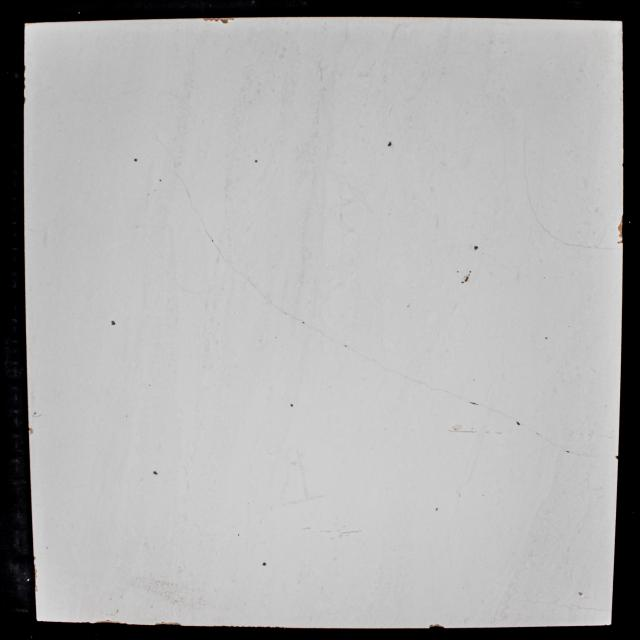edge-chipping: (202, 17, 235, 24), (155, 621, 182, 626), (96, 620, 122, 624), (618, 223, 623, 238), (429, 624, 445, 628), (28, 427, 34, 435), (213, 625, 235, 627), (34, 568, 38, 579), (617, 240, 624, 244), (34, 585, 38, 592), (620, 214, 623, 223), (578, 592, 583, 596), (33, 556, 36, 561), (616, 456, 618, 460)
hole: (261, 560, 268, 566), (110, 320, 116, 326), (387, 141, 392, 147), (474, 246, 479, 250), (153, 471, 158, 475), (134, 158, 138, 162), (544, 336, 548, 340), (435, 507, 439, 511), (255, 159, 258, 163), (290, 404, 294, 407), (516, 422, 520, 425)
line: (239, 272, 300, 321), (365, 357, 439, 391), (440, 389, 515, 421), (522, 425, 588, 457), (195, 209, 226, 262), (306, 325, 360, 355), (174, 162, 194, 207), (533, 211, 559, 240), (522, 148, 534, 208), (560, 241, 614, 250), (154, 132, 167, 150)
